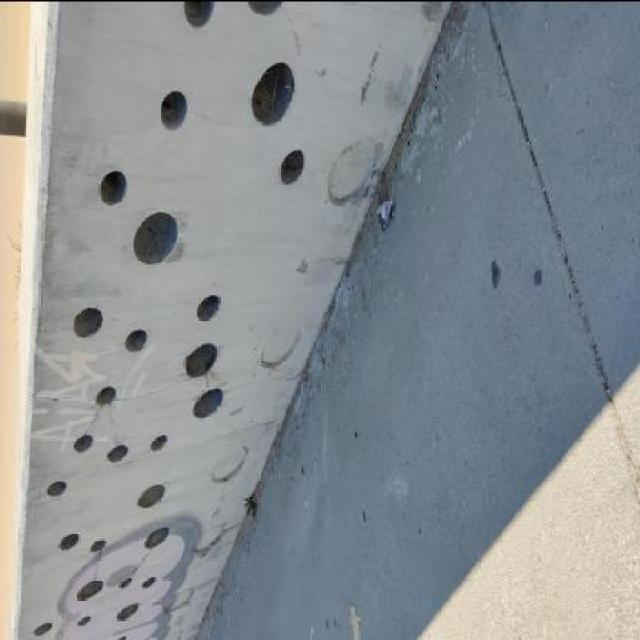cardboard: (348, 602, 361, 640)
plastic: (376, 196, 395, 230)
